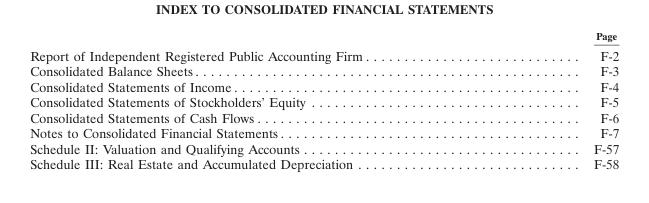table: (29, 29, 618, 171)
table column: (29, 29, 480, 171), (480, 29, 618, 171)
table column header: (29, 29, 618, 44)
table row: (29, 44, 618, 63), (29, 78, 618, 94), (29, 109, 618, 125), (29, 140, 618, 156), (29, 29, 618, 44), (29, 63, 618, 78), (29, 94, 618, 109), (29, 125, 618, 140), (29, 156, 618, 171)
